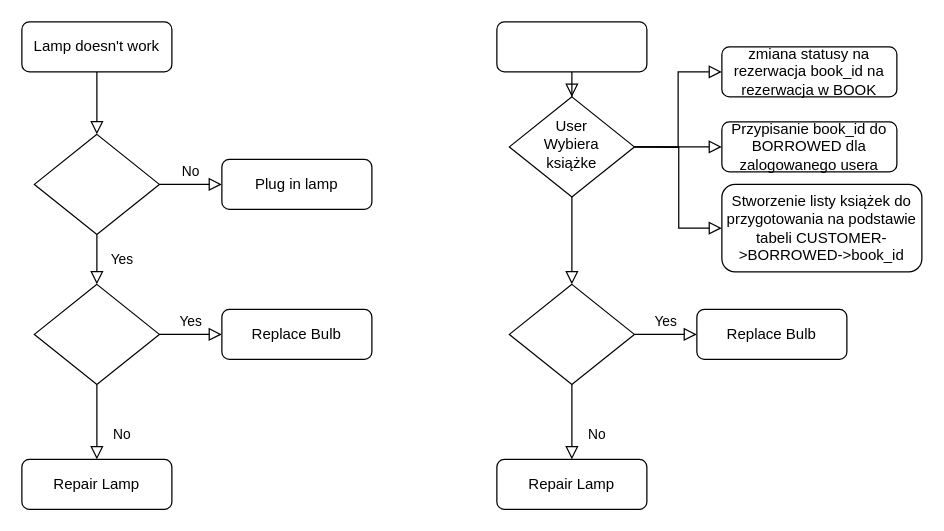
Some shapes in this 944 by 531 pixel diagram are drawn without their labels. The shapes that lost their labels are listed below. From the top down, each one's box as (x1, y1, x2, y2) in pixels, then its label:
(496, 21, 647, 72): User
(33, 133, 159, 234): Lamp plugged in?
(33, 283, 159, 384): Bulb burned out?
(508, 283, 634, 384): Angieszka przygotuje ksiażki
